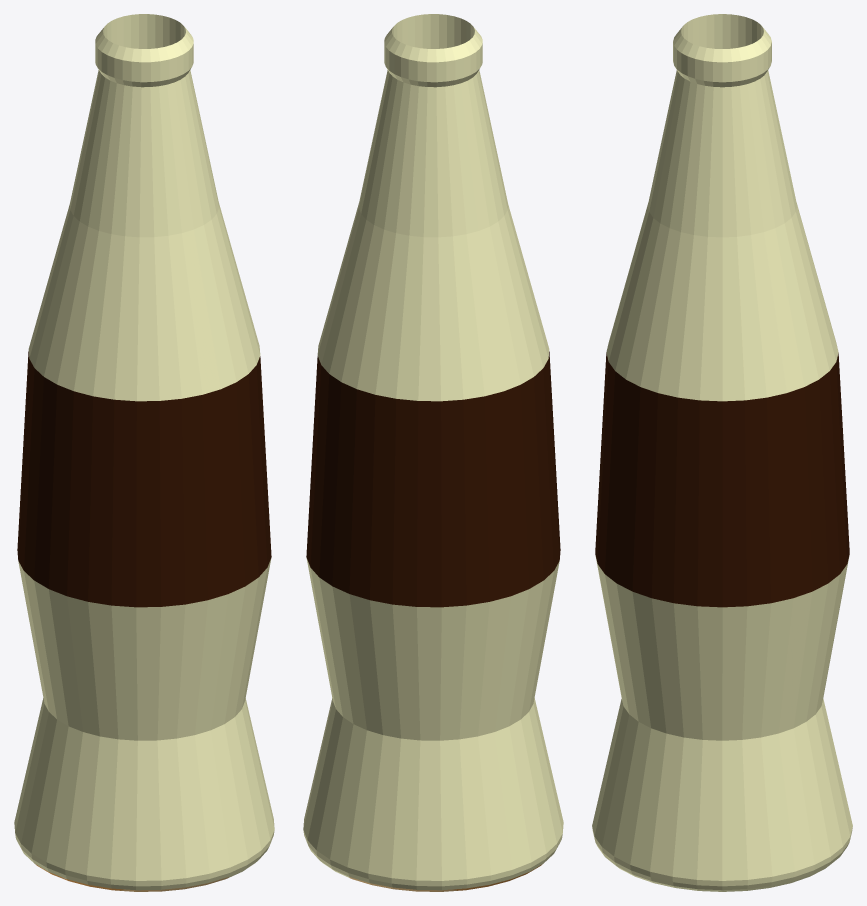
Rendered from Bottle.fbx.
3 views of the same model, side by side, from view 1: azimuth 30°, elevation 25°; view 2: azimuth 150°, elevation 25°; view 3: azimuth 270°, elevation 25° (orthographic).
Parts seen in each view (by area): view 1: Cylinder; view 2: Cylinder; view 3: Cylinder.
Boxes of the visible parts, x1,y1,x2,y2 form: Cylinder: (14, 14, 274, 891); Cylinder: (303, 14, 563, 891); Cylinder: (592, 14, 852, 891).
Size of the model in its own units: 0.3237 by 1.11 by 0.3237.
